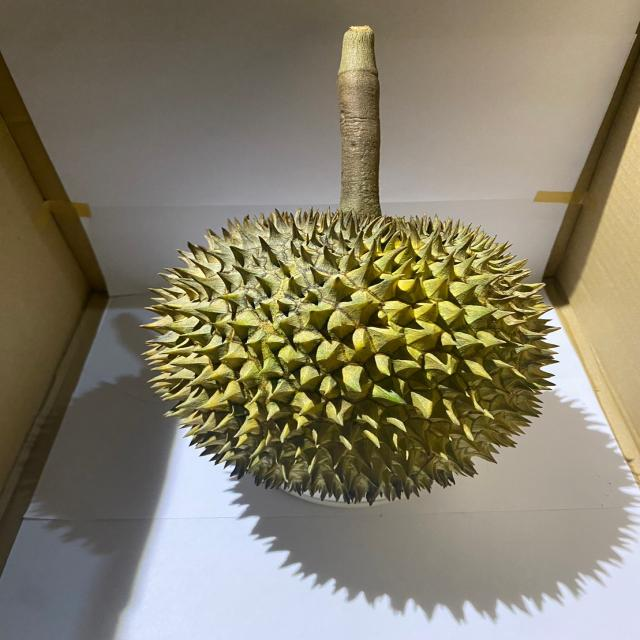immature: (132, 206, 562, 506)
